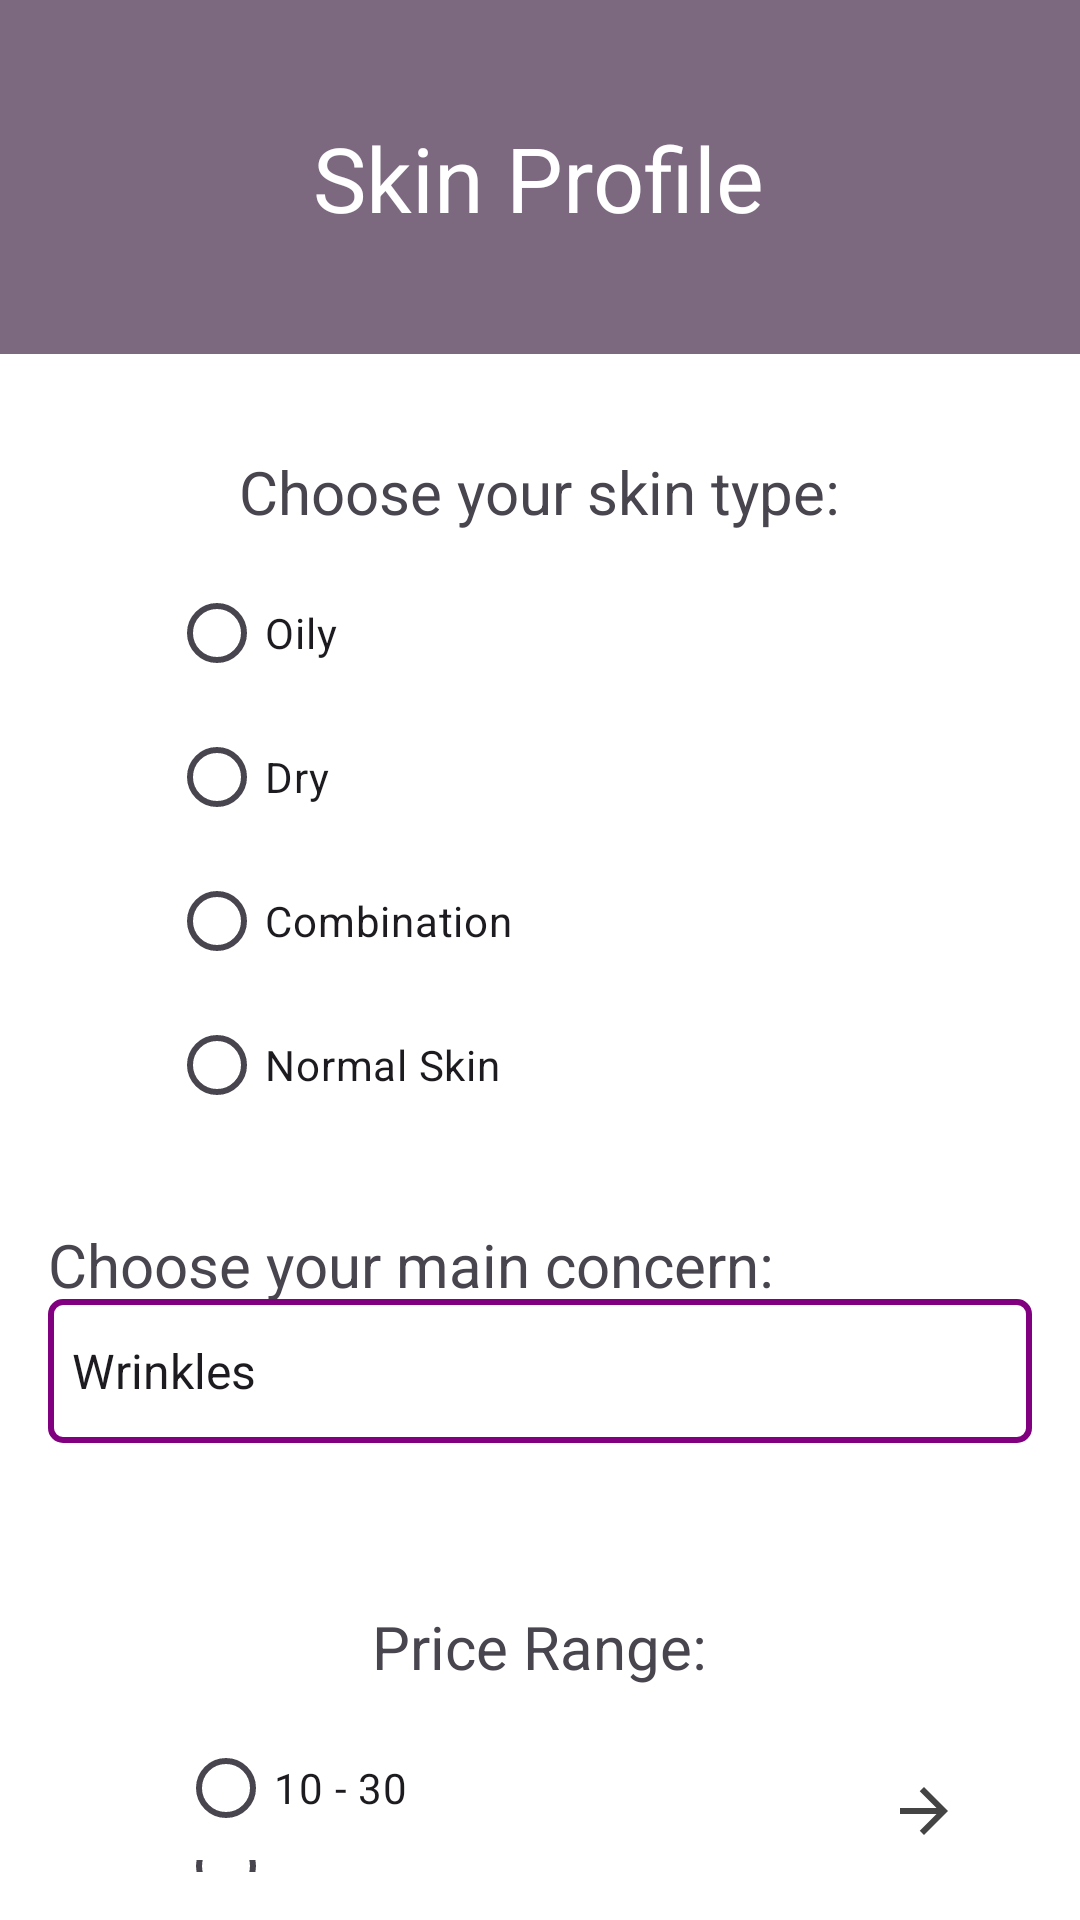

Named icons in this screenshot (1080px×1920px) and their centers, [x,y]:
forwardbutton: [924,1811]
